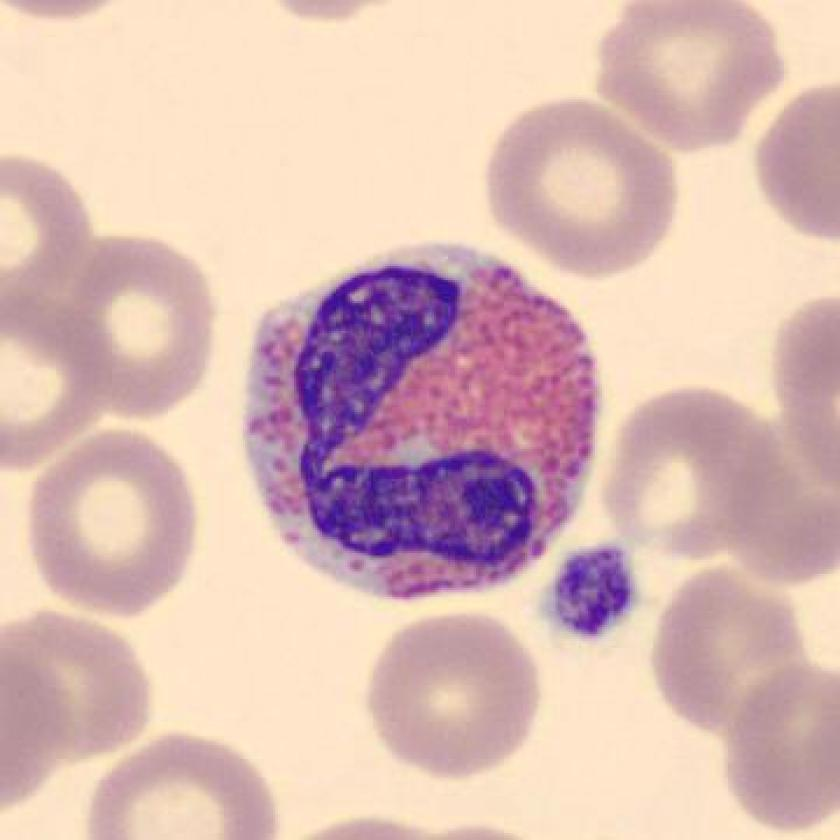eosinophil: (234, 225, 617, 612)
